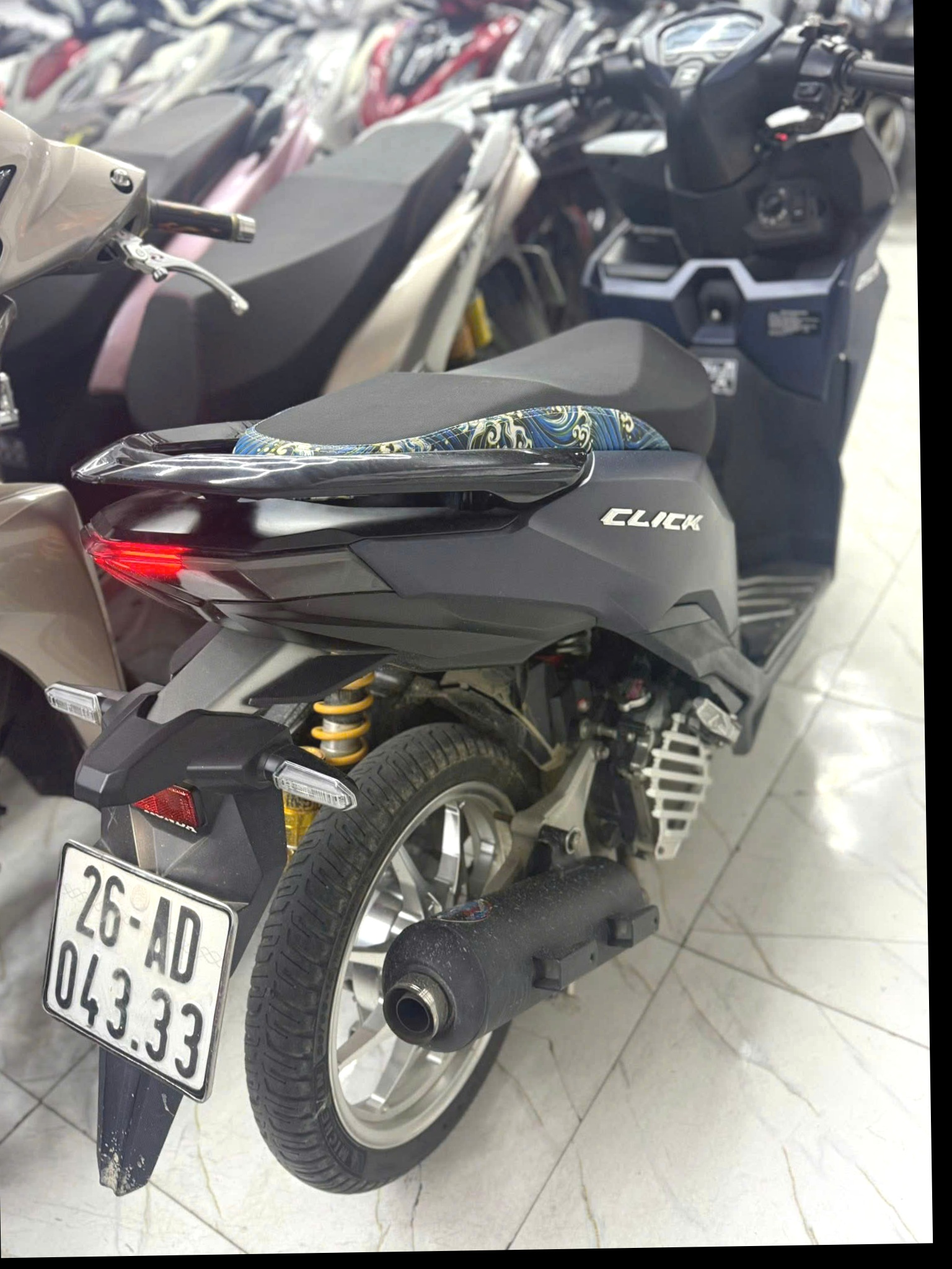Bien-so: (22, 788, 233, 1051)
